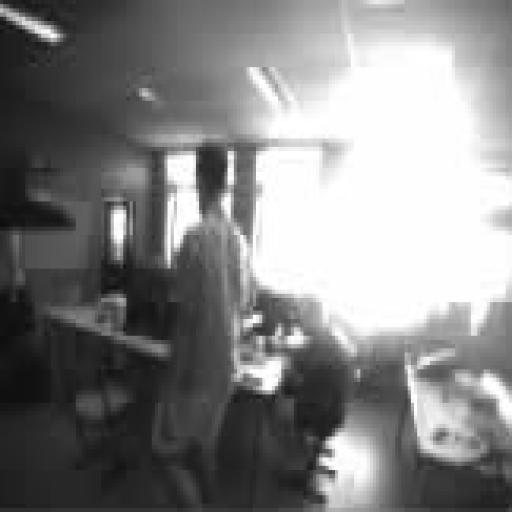human: (152, 143, 252, 499), (267, 298, 356, 488)
